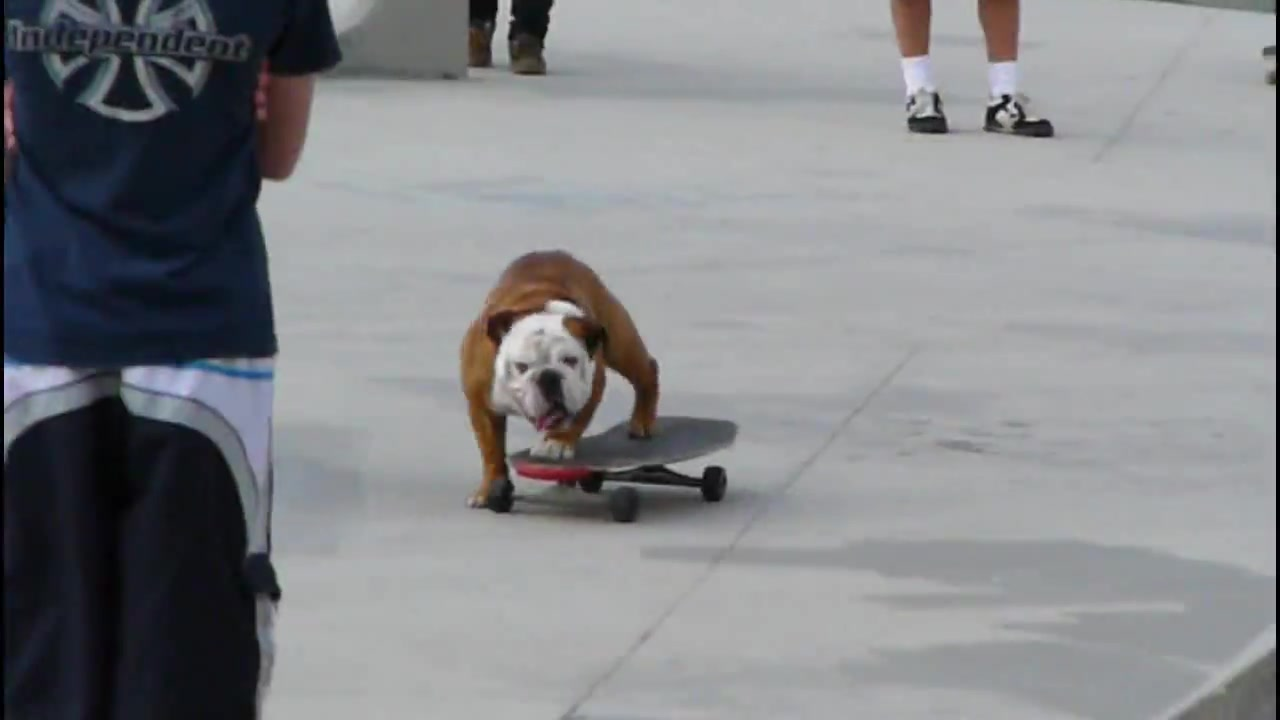dog: (453, 248, 662, 516)
